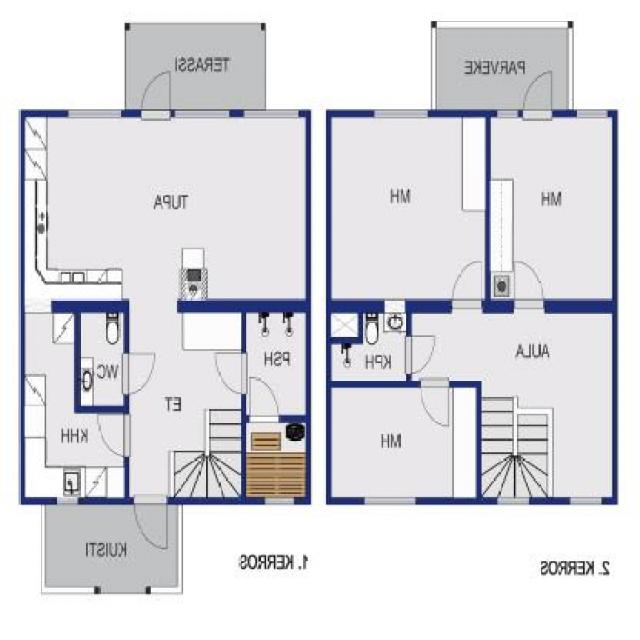door: (134, 494, 169, 555), (523, 68, 557, 124), (140, 69, 174, 125), (97, 415, 135, 463), (511, 260, 546, 312), (418, 378, 451, 428), (452, 260, 483, 312), (122, 354, 156, 397), (249, 374, 280, 421), (214, 352, 249, 392), (404, 332, 436, 374)
window: (68, 106, 123, 120), (174, 109, 228, 120), (245, 109, 297, 120), (361, 498, 417, 508), (372, 109, 428, 117), (497, 497, 529, 508), (569, 497, 602, 506), (263, 497, 292, 506), (576, 112, 606, 120), (58, 497, 78, 509), (497, 111, 518, 120)
zone: (25, 115, 308, 303), (411, 318, 612, 496), (330, 117, 488, 298), (491, 117, 614, 298), (126, 307, 240, 498), (26, 308, 126, 495), (331, 386, 475, 500), (126, 24, 265, 110), (44, 503, 176, 588), (436, 31, 566, 111), (246, 310, 303, 416), (332, 308, 410, 380), (245, 421, 306, 494), (80, 308, 125, 402)
